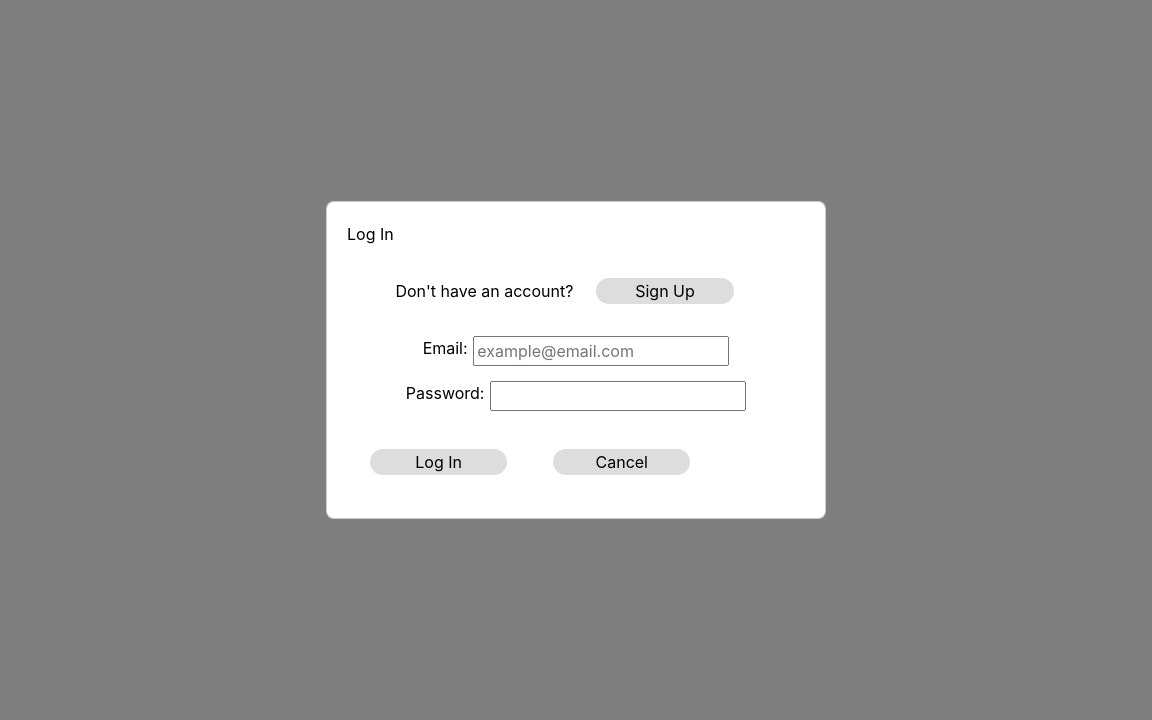
Test: LoginModal integration › shows error when login fails
Type "danny@example.com" into the field with placeholder "example@email.com" at x=601, y=351, box [473, 336, 729, 366]
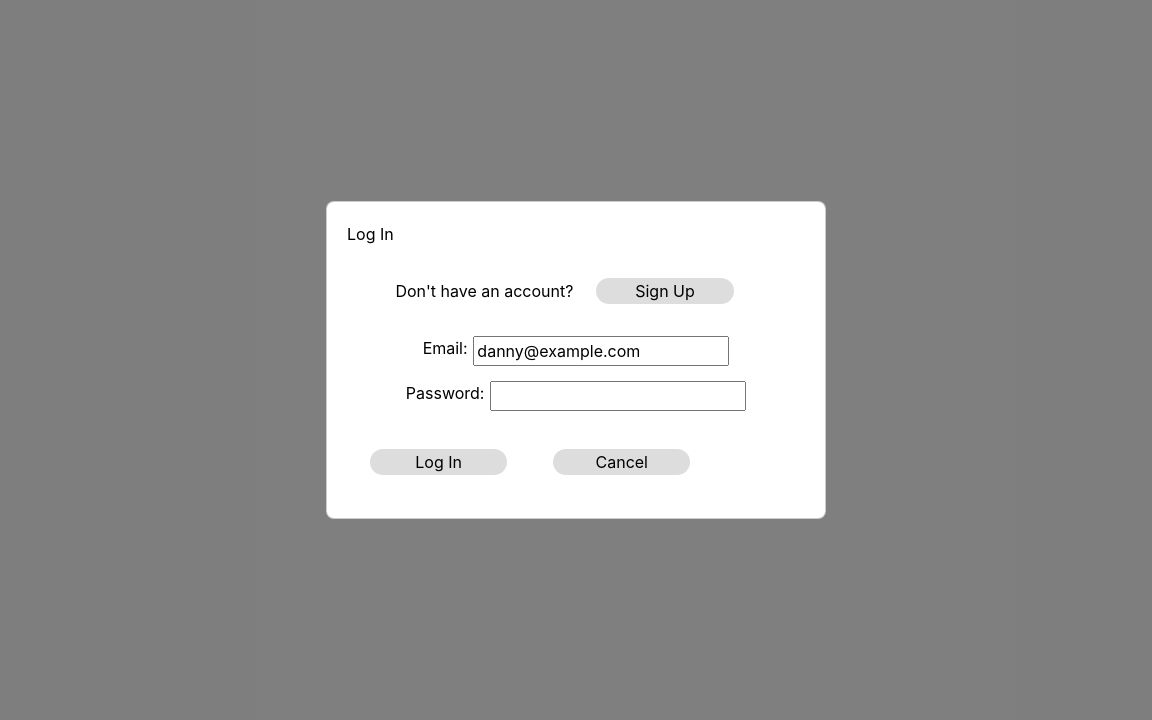
Type "bad-password" into the password field labelled "Password:" at x=618, y=396, box [490, 381, 746, 411]
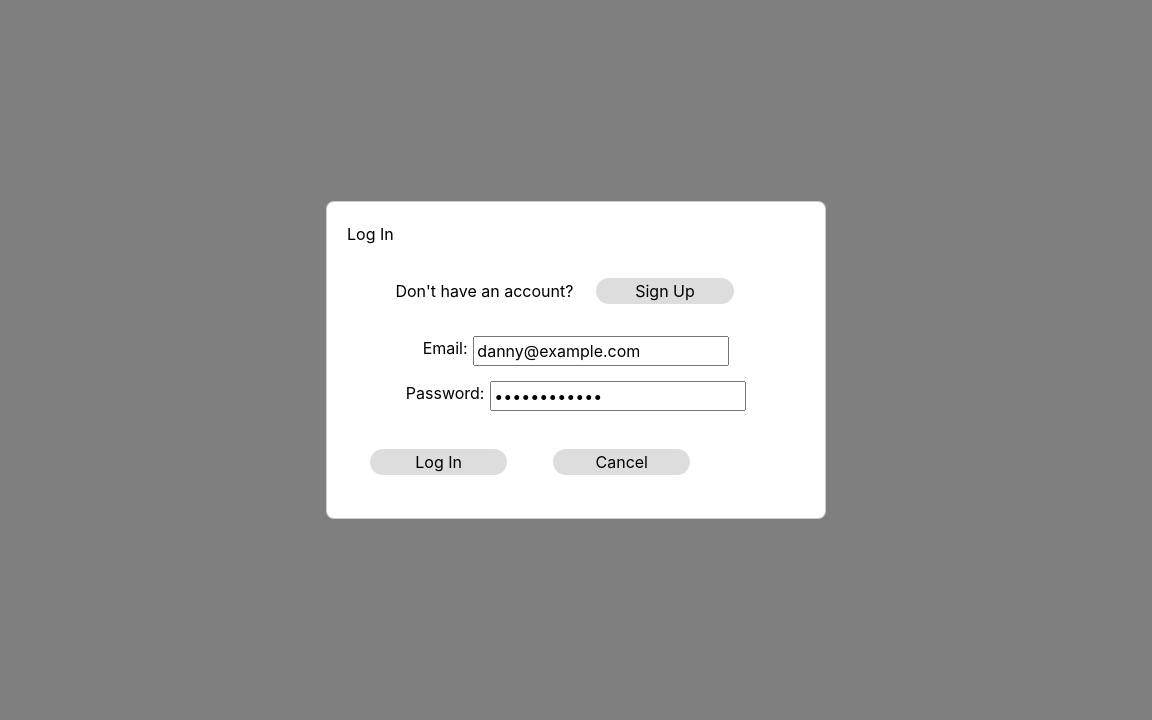
Click the button "Log In" at x=439, y=462, box [370, 449, 507, 475]
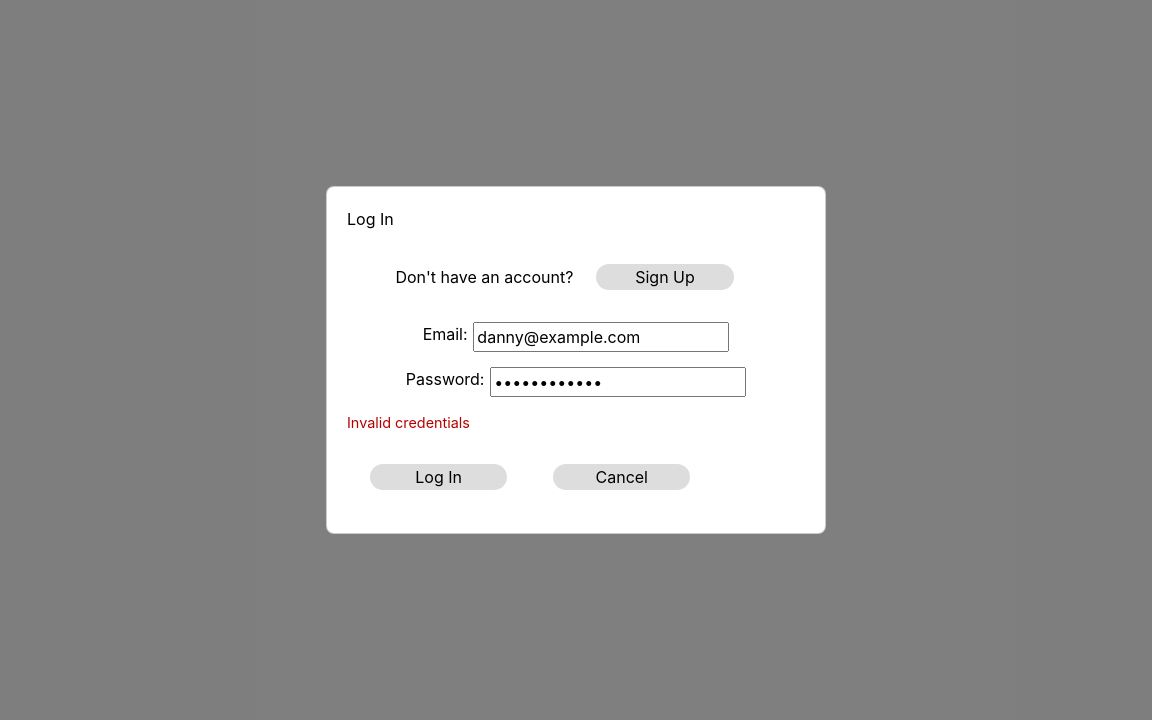
Expected: the text "Invalid credentials" is shown, [347, 414, 470, 431]
